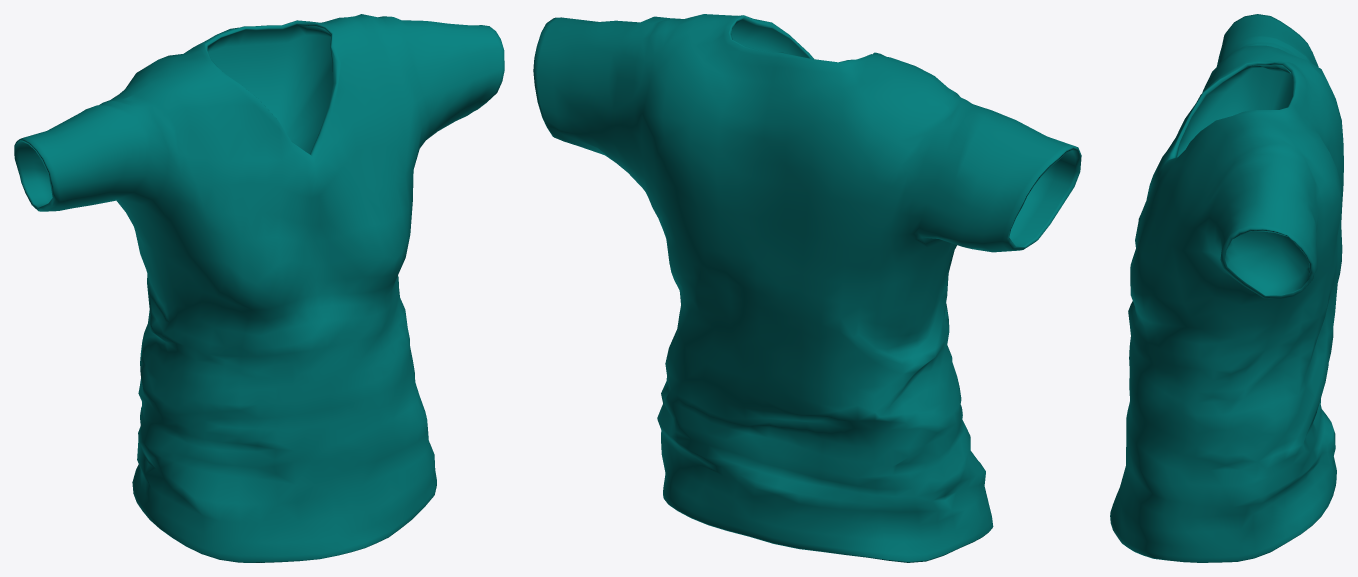
3 renders of one model, left to right at view 1: azimuth 30°, elevation 25°; view 2: azimuth 150°, elevation 25°; view 3: azimuth 270°, elevation 25°, orthographic. The views are drawn at different scales.
Parts seen in each view (by area): view 1: Tops; view 2: Tops; view 3: Tops.
Part boxes in pixels (box(x1,y1,x2,y2)): Tops: box(14, 14, 504, 562); Tops: box(533, 14, 1081, 562); Tops: box(1110, 14, 1343, 562).
Size of the model in its own units: 0.6847 by 0.6477 by 0.3136.
